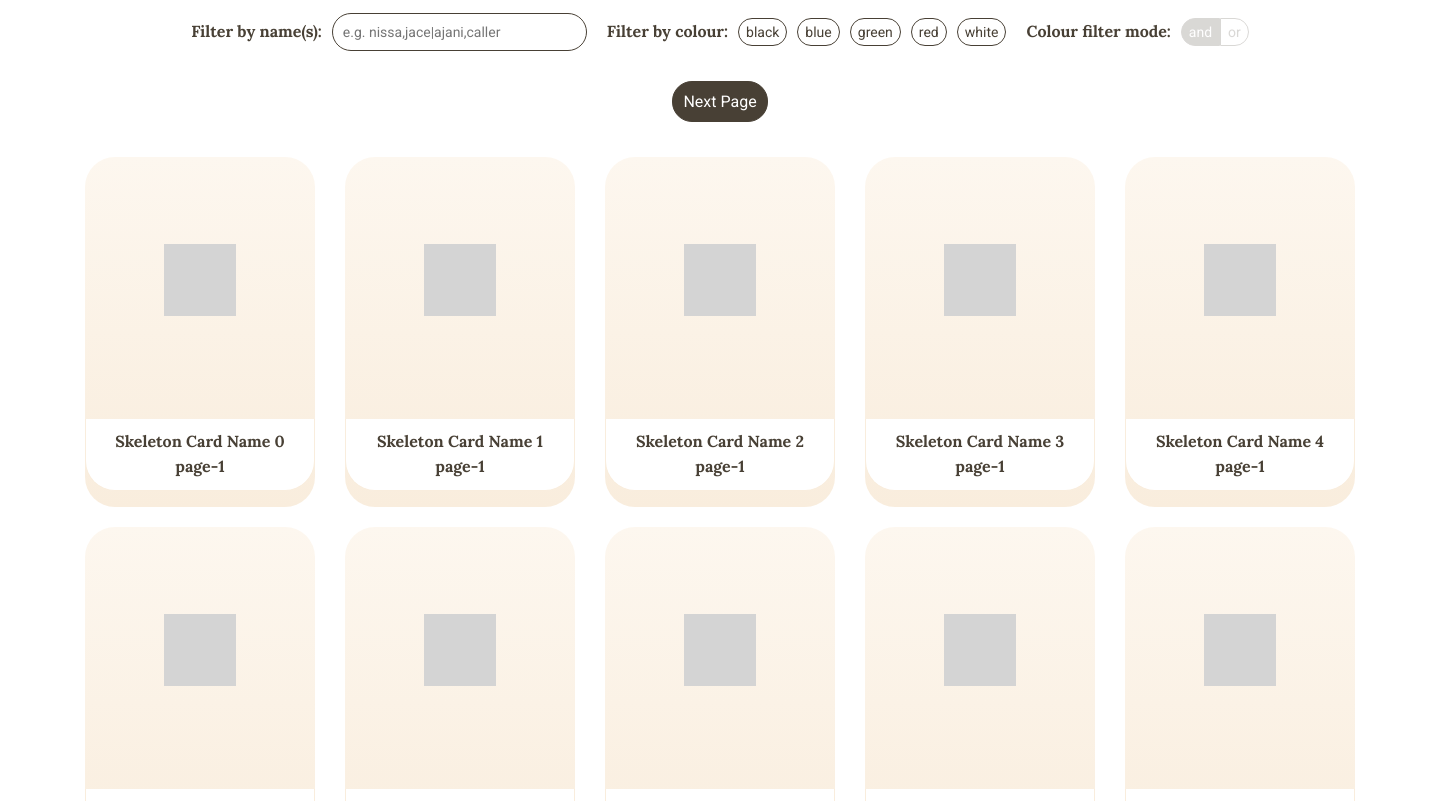
Test: renders a previous page button if current page > 1
Click the button "Next Page" at (720, 102), box [672,81,768,122]
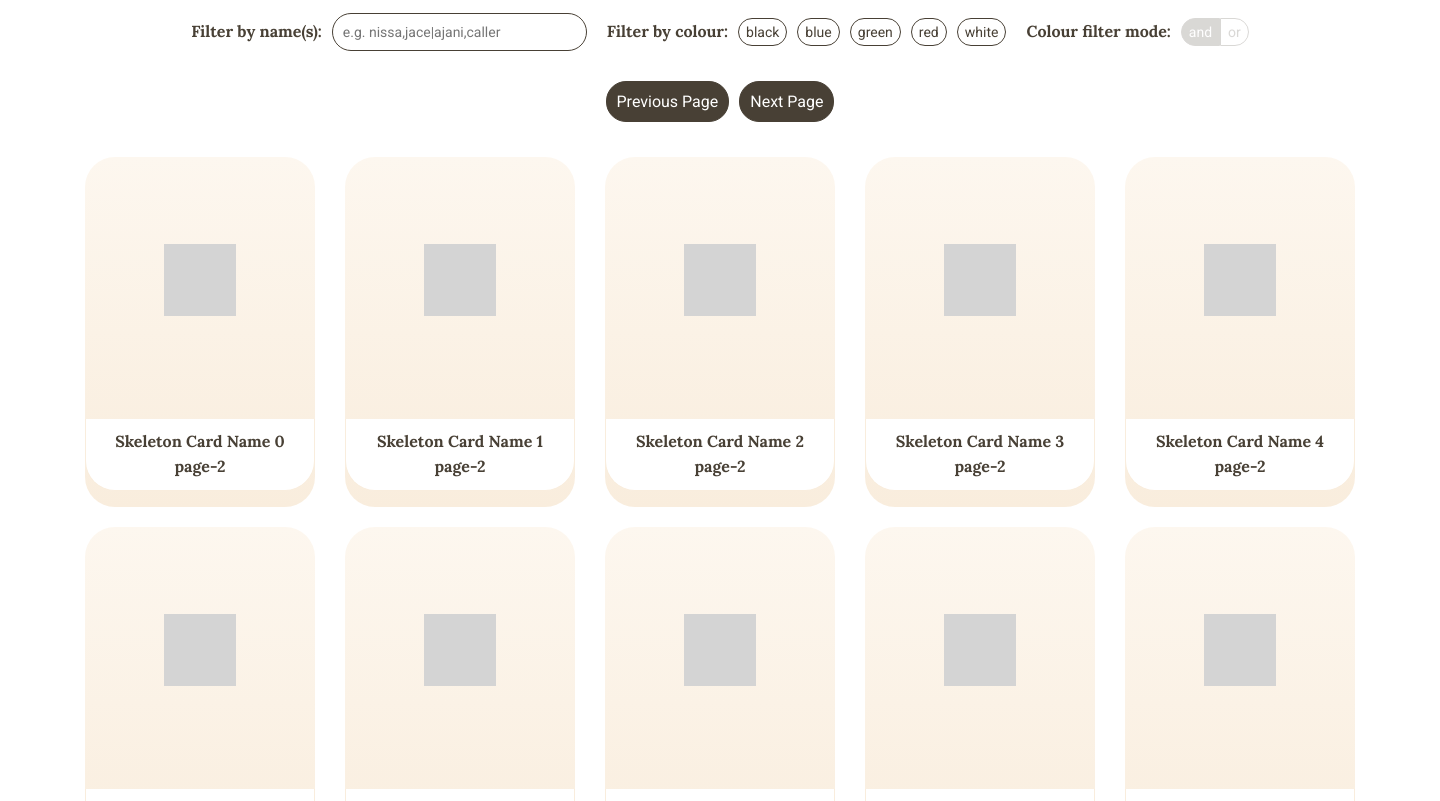
Now the button "Previous Page" is shown, box [606,81,729,122]
